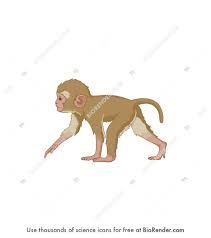monkey: (5, 23, 180, 217)
